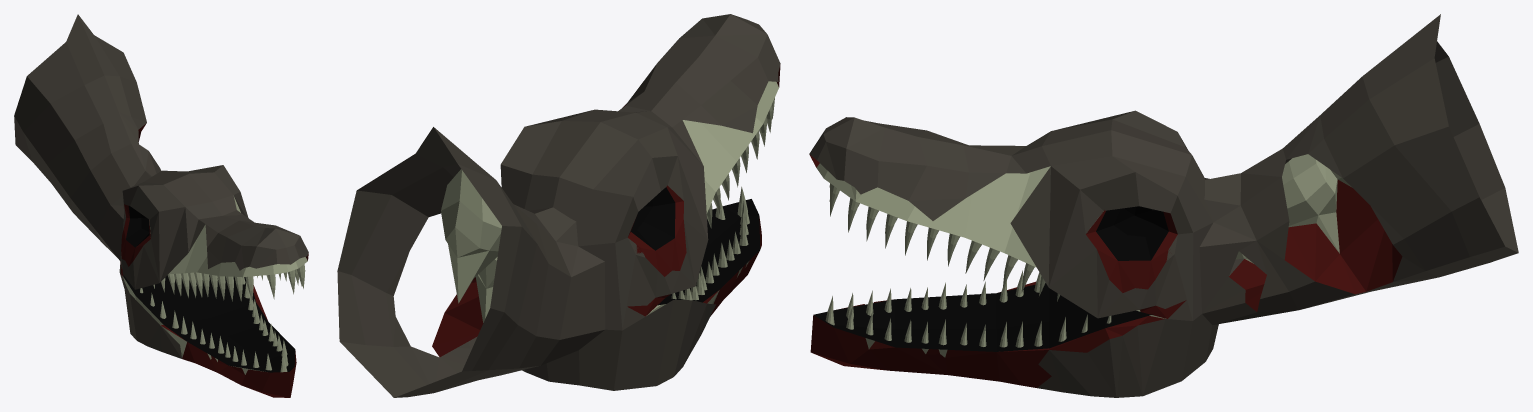
File: Fossil.fbx
The picture shows the model from 3 angles, left to right: view 1: azimuth 30°, elevation 25°; view 2: azimuth 150°, elevation 25°; view 3: azimuth 270°, elevation 25°; orthographic projection. The views are drawn at different scales.
Visible parts, largest first — view 1: Neck_RIPPED, SkullTop_S2, Interior, SkullBot.FLESH, SkullTop, SkullBot.SKIN_RIPPED, EyeHole, SkullTop_Flesh, SkullBot; view 2: SkullTop_S2, Neck_RIPPED, SkullBot.SKIN_RIPPED, Cube.004, SkullTop, Interior, Neck_RIPPED_FLESH, SkullTop_Flesh, EyeHole, Cube.001, SkullBot.FLESH; view 3: Neck_RIPPED, SkullTop_S2, Interior, SkullBot.SKIN_RIPPED, Neck_RIPPED_FLESH, SkullBot.FLESH, SkullTop, Cube.001, EyeHole, SkullTop_Flesh.
Part boxes in pixels (bbox=[...]): Neck_RIPPED: bbox=[14, 14, 161, 260]; SkullTop_S2: bbox=[119, 165, 308, 289]; Interior: bbox=[123, 275, 295, 372]; SkullBot.FLESH: bbox=[161, 285, 296, 397]; SkullTop: bbox=[149, 197, 307, 277]; SkullBot.SKIN_RIPPED: bbox=[120, 273, 182, 358]; EyeHole: bbox=[126, 206, 149, 247]; SkullTop_Flesh: bbox=[120, 204, 308, 275]; SkullBot: bbox=[123, 277, 265, 374]; SkullTop_S2: bbox=[500, 14, 780, 330]; Neck_RIPPED: bbox=[337, 127, 605, 397]; SkullBot.SKIN_RIPPED: bbox=[522, 300, 715, 390]; Cube.004: bbox=[441, 169, 501, 303]; SkullTop: bbox=[682, 81, 778, 213]; Interior: bbox=[657, 199, 760, 305]; Neck_RIPPED_FLESH: bbox=[432, 277, 483, 357]; SkullTop_Flesh: bbox=[622, 65, 780, 316]; EyeHole: bbox=[631, 187, 675, 250]; Cube.001: bbox=[475, 257, 497, 322]; SkullBot.FLESH: bbox=[703, 216, 761, 316]; Neck_RIPPED: bbox=[1199, 14, 1518, 325]; SkullTop_S2: bbox=[809, 110, 1213, 320]; Interior: bbox=[813, 283, 1153, 351]; SkullBot.SKIN_RIPPED: bbox=[1037, 314, 1218, 397]; Neck_RIPPED_FLESH: bbox=[1229, 179, 1402, 311]; SkullBot.FLESH: bbox=[810, 281, 1164, 387]; SkullTop: bbox=[816, 163, 1140, 311]; Cube.001: bbox=[1282, 154, 1339, 253]; EyeHole: bbox=[1096, 206, 1168, 260]; SkullTop_Flesh: bbox=[809, 154, 1186, 318].
Bounding box in the file's own units: 245 × 462 × 855.
